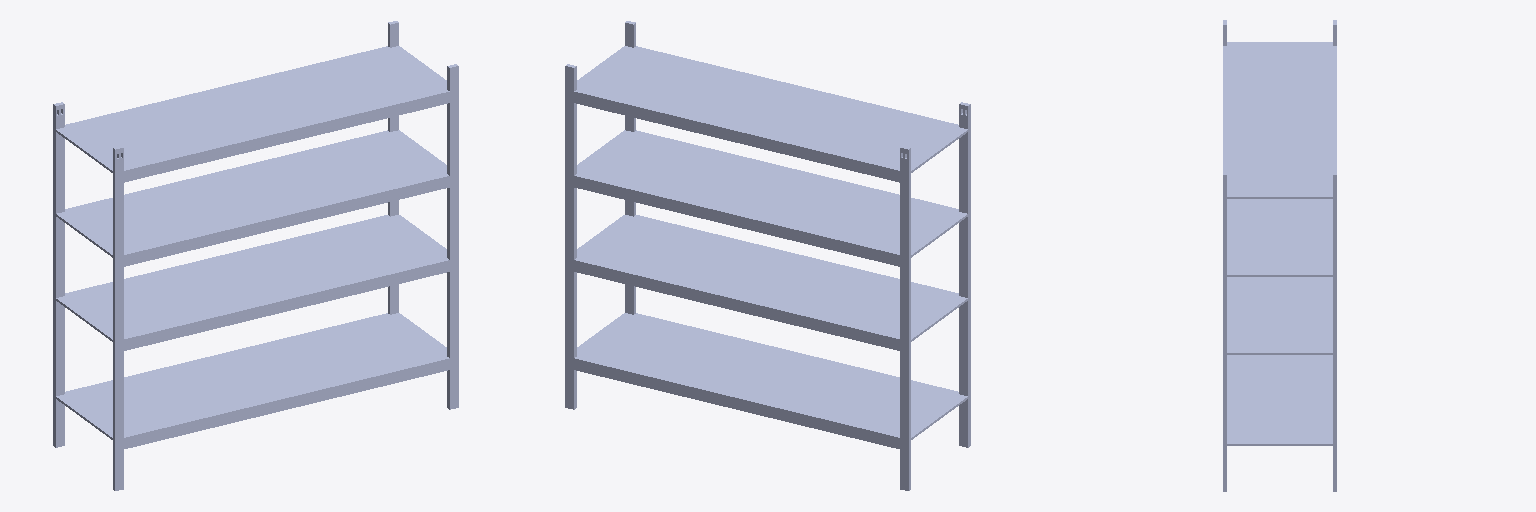
The robot description file, URDF, robot "rack":
<?xml version="1.0" encoding="utf-8"?>
<!-- This URDF was automatically created by SolidWorks to URDF Exporter! Originally created by [author] ([email redacted]) 
     Commit Version: 1.6.0-1-g15f4949  Build Version: 1.6.7594.29634
     For more information, please see http://wiki.ros.org/sw_urdf_exporter -->
<robot
  name="rack">
  <link
    name="base_link">
    <inertial>
      <origin
        xyz="0.975119679404293 0.304799999999999 0.999251673401061"
        rpy="0 0 0" />
      <mass
        value="88.7154677300003" />
      <inertia
        ixx="29.9274727958863"
        ixy="3.12757435973069E-14"
        ixz="-0.0285456795100885"
        iyy="58.541576189975"
        iyz="9.18183401142584E-15"
        izz="37.1932023276767" />
    </inertial>
    <visual>
      <origin
        xyz="0 0 0"
        rpy="0 0 0" />
      <geometry>
        <mesh
          filename="package://rack/meshes/base_link.STL" />
      </geometry>
      <material
        name="">
        <color
          rgba="0.792156862745098 0.819607843137255 0.933333333333333 1" />
      </material>
    </visual>
    <collision>
      <origin
        xyz="0 0 0"
        rpy="0 0 0" />
      <geometry>
        <mesh
          filename="package://rack/meshes/base_link.STL" />
      </geometry>
    </collision>
  </link>

<gazebo reference="base_link">
    <material>Gazebo/Blue</material>
</gazebo>

<gazebo>
<static> true </static>
</gazebo>


</robot>

--- Render facts (derived) ---
3 views of the same robot in one strip: view 1: azimuth 30°, elevation 25°; view 2: azimuth 150°, elevation 25°; view 3: azimuth 270°, elevation 25° (orthographic).
Robot: rack — 1 links, 0 joints (none); root link base_link; default pose: every joint at zero.
Visible links, largest first — view 1: base_link; view 2: base_link; view 3: base_link.
Link boxes in pixels (x1=…): base_link: x1=53, y1=21, x2=458, y2=490; base_link: x1=565, y1=21, x2=970, y2=490; base_link: x1=1223, y1=20, x2=1336, y2=491.
Bounding box of the posed robot: 1.95 × 0.6096 × 1.85 m (x, y, z).
Meshes: 1 distinct files referenced, 1 mesh visuals loaded (1 binary STL).